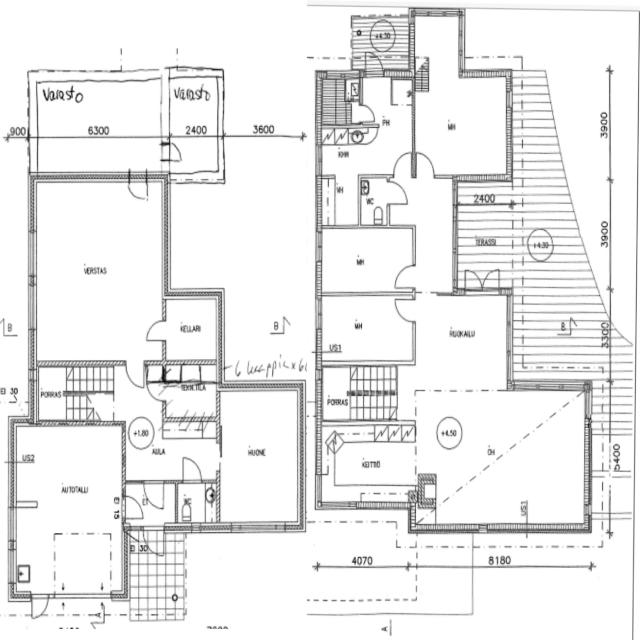door: (463, 266, 503, 294), (140, 478, 166, 512), (126, 168, 150, 204), (178, 454, 205, 485), (390, 261, 418, 290), (141, 316, 169, 344), (386, 178, 410, 208), (414, 149, 437, 180), (121, 493, 145, 522), (124, 360, 147, 390), (392, 296, 417, 323), (160, 139, 184, 166), (391, 150, 414, 178), (29, 592, 51, 620), (364, 52, 385, 78), (145, 378, 167, 402), (356, 102, 378, 124), (362, 125, 381, 147), (0, 316, 8, 338)
window: (514, 378, 587, 396), (227, 518, 290, 536), (24, 224, 40, 283), (24, 277, 40, 334), (58, 586, 110, 599), (5, 503, 18, 548), (322, 498, 357, 511), (313, 228, 325, 265), (314, 296, 324, 336), (410, 324, 418, 362)
zone: (34, 178, 166, 366), (416, 389, 588, 531), (12, 423, 123, 594), (217, 388, 301, 528), (412, 73, 510, 178), (319, 418, 418, 504), (316, 294, 416, 366), (317, 227, 416, 295), (124, 418, 220, 483), (361, 74, 414, 174), (317, 126, 359, 230), (163, 295, 220, 364), (160, 362, 219, 422), (0, 331, 30, 418), (319, 71, 362, 129), (175, 482, 220, 526), (360, 175, 390, 228)
